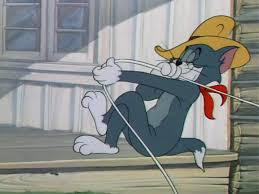tom: (71, 43, 240, 172)
